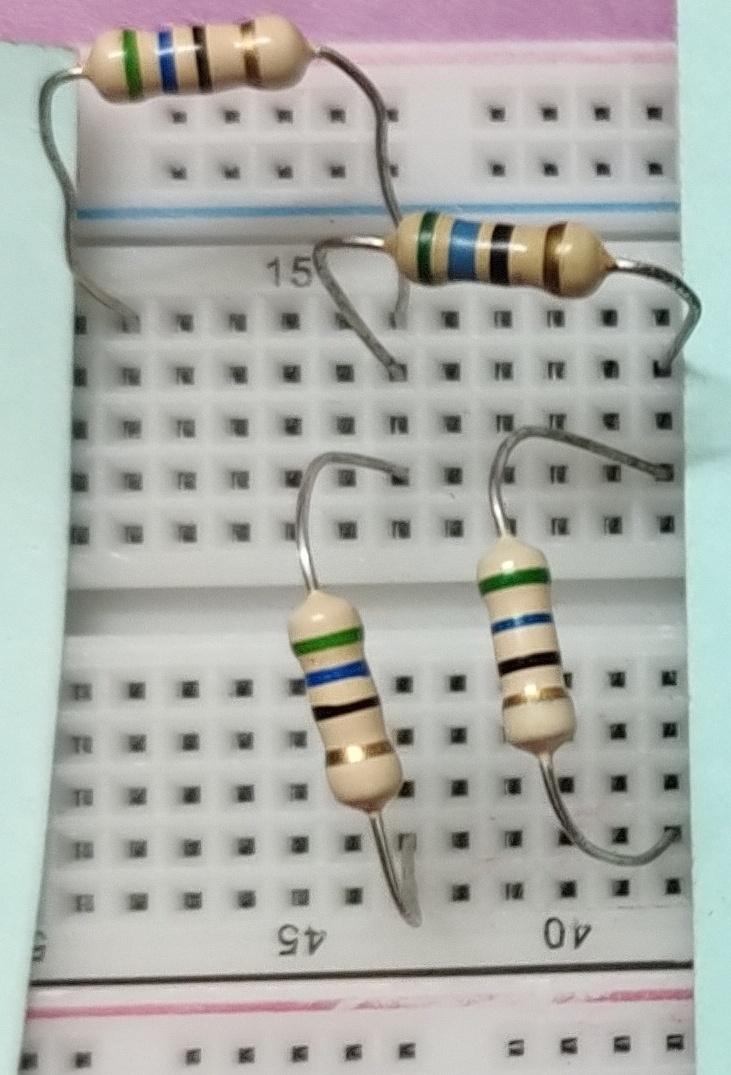resistor: (262, 588, 420, 815), (457, 530, 595, 750), (392, 198, 615, 312), (65, 10, 320, 108)
